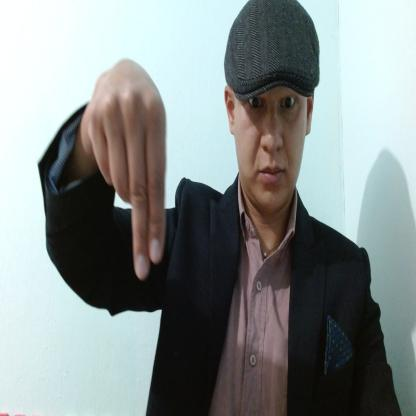N: (86, 60, 169, 281)
